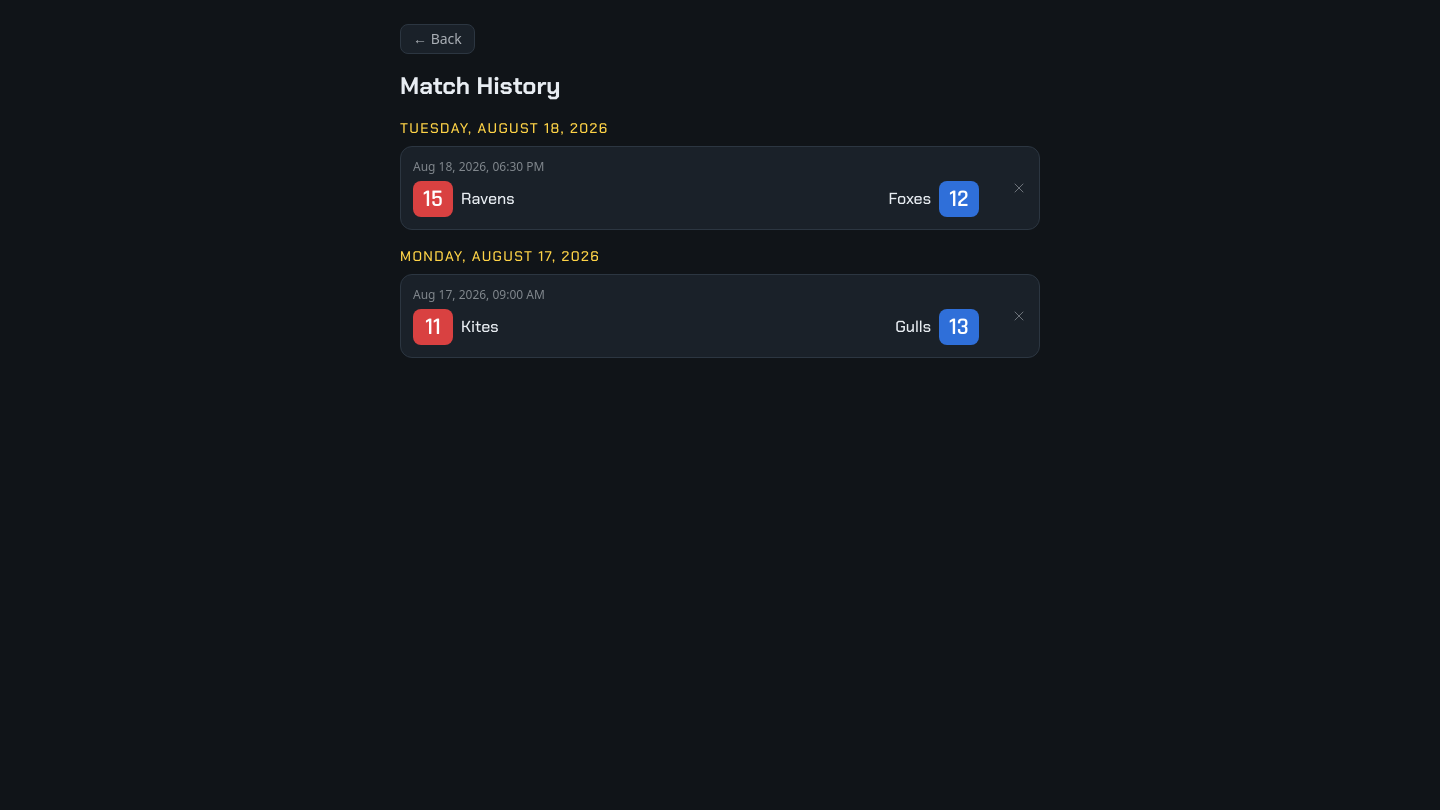
Test case: the past-games screen › deletes a game only once the confirmation is answered
Click the button named "Delete Ravens 15 — 12 Foxes".
click(1019, 188)  # box 999,147 -> 1039,229
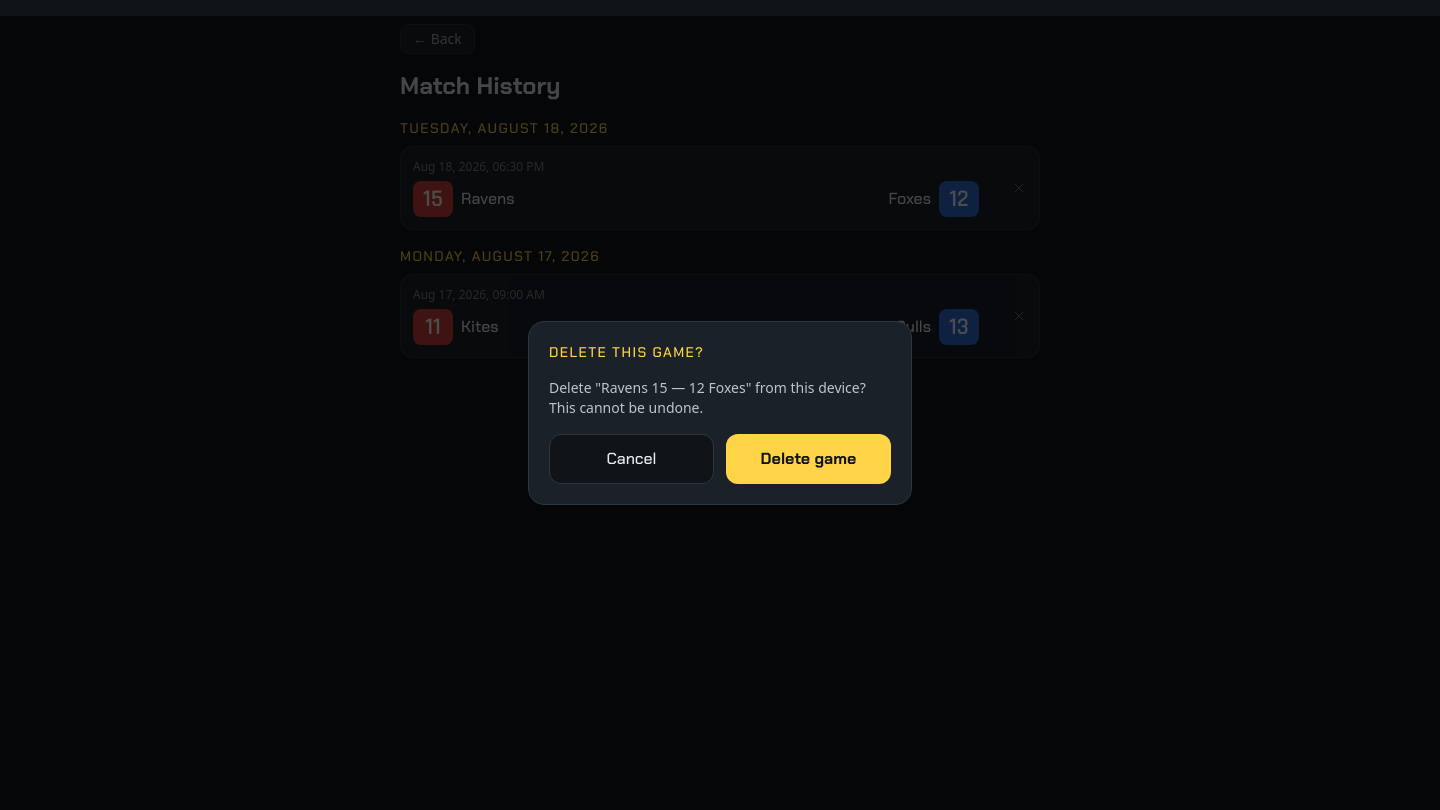
Click the button "Cancel".
click(632, 459)  # box 549,434 -> 714,484
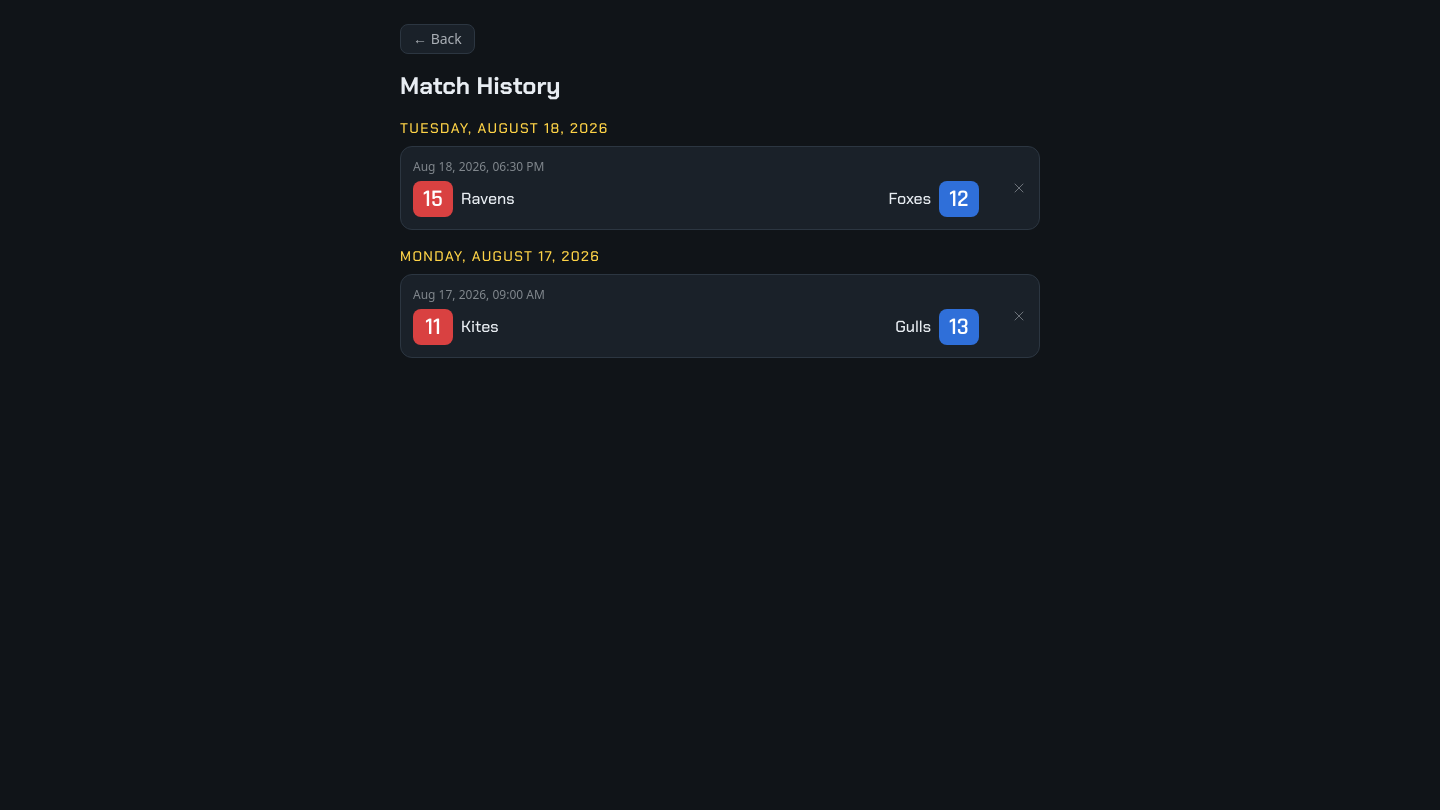
Click the button named "Delete Ravens 15 — 12 Foxes".
click(1019, 188)  # box 999,147 -> 1039,229
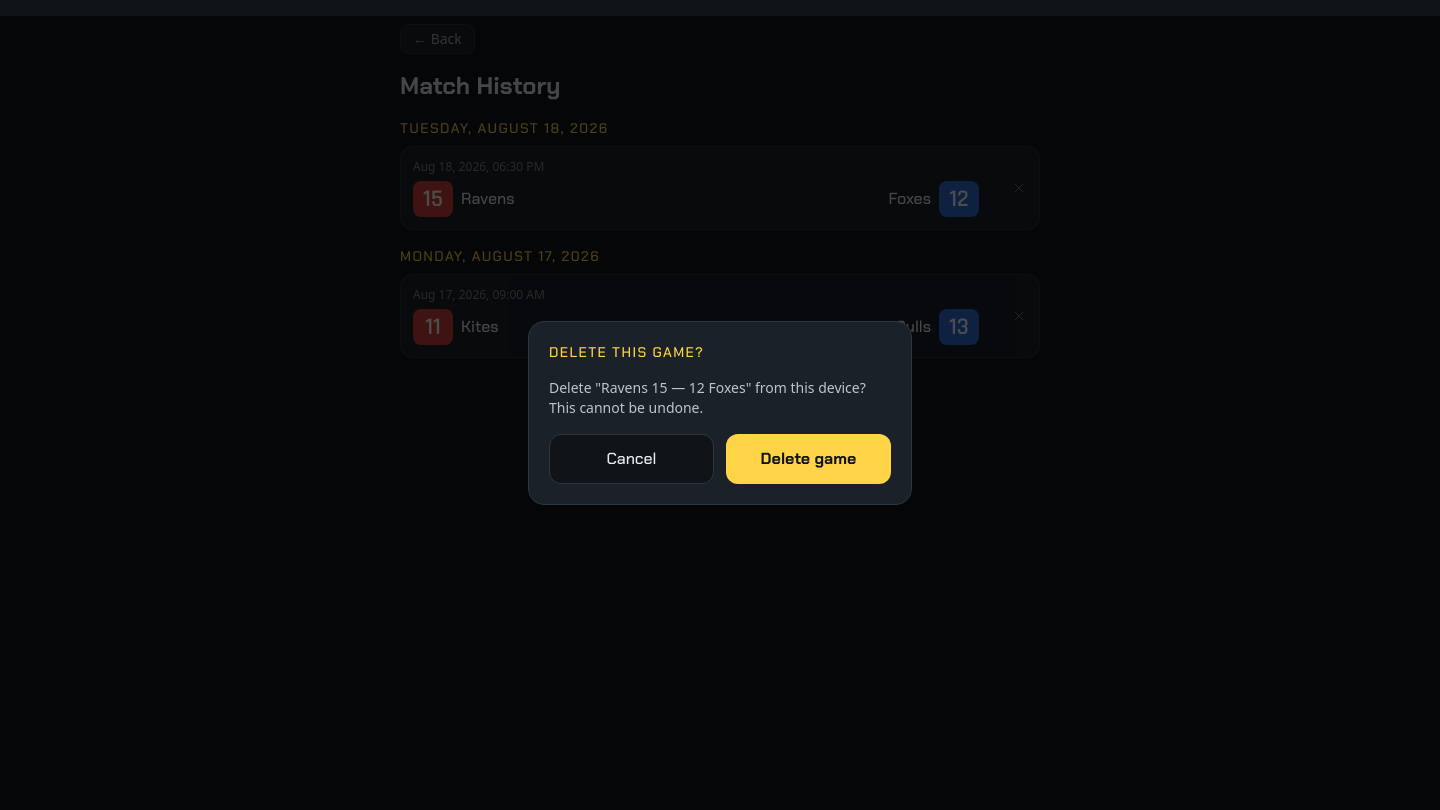
Click the button "Delete game".
click(808, 459)  # box 726,434 -> 891,484
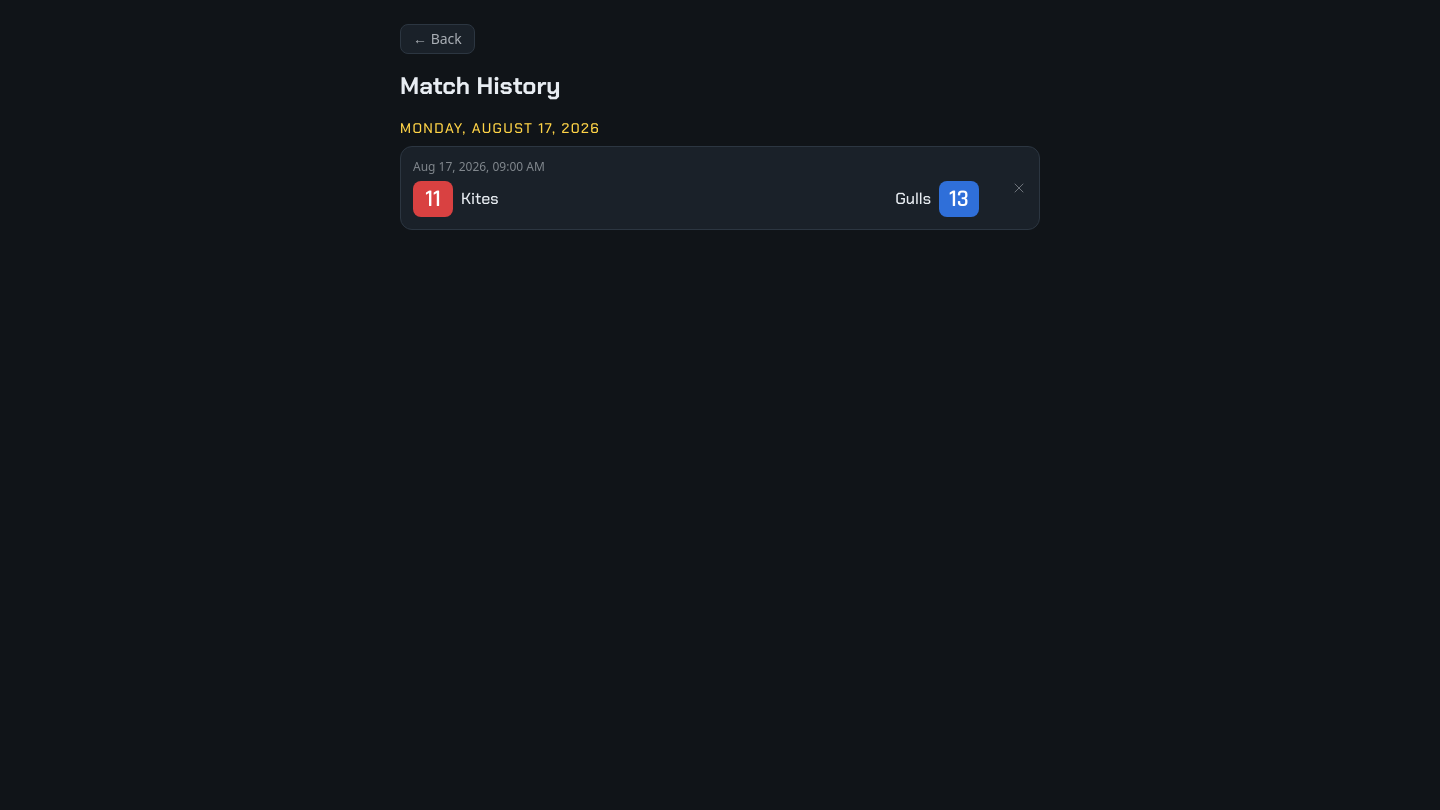
Now the button "Ravens" is gone
